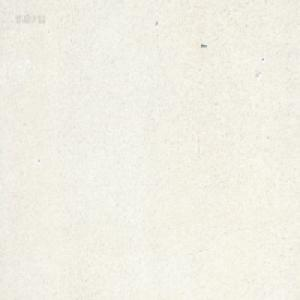Nail: (200, 42, 207, 48)
